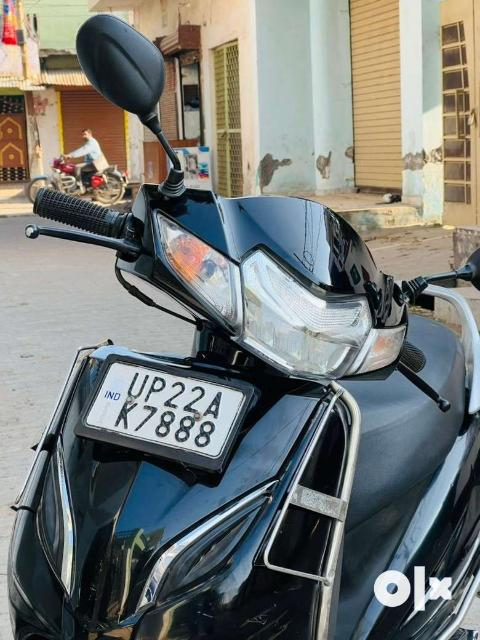Indian_Number_Plate: (79, 358, 250, 461)
